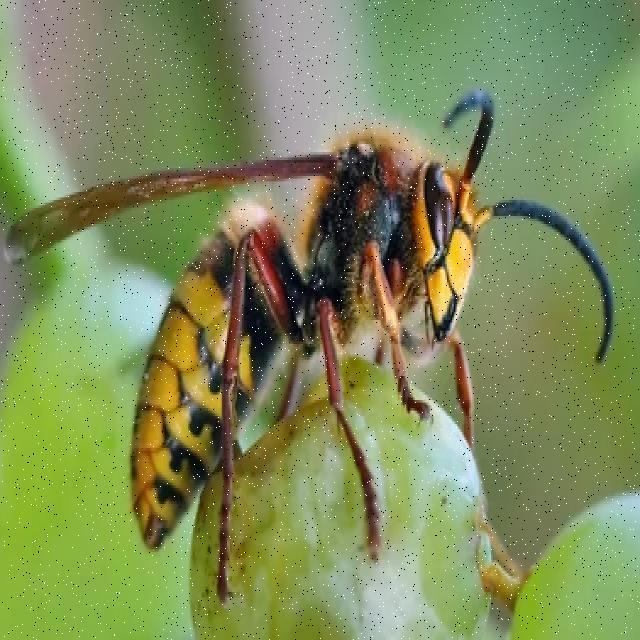Wasp: (0, 82, 622, 598)
